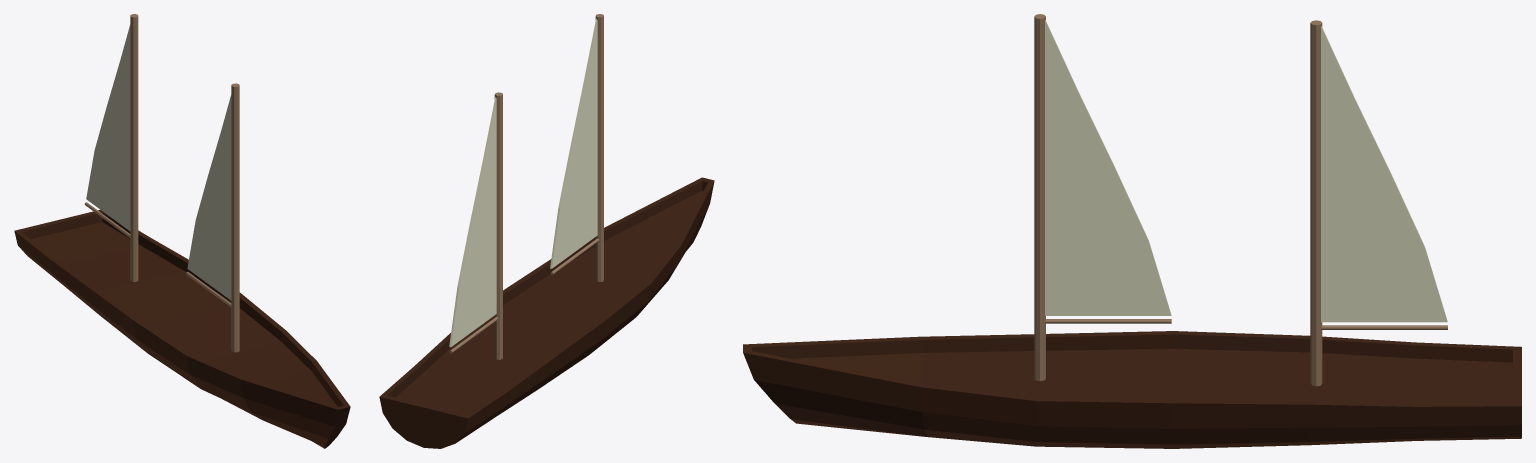
File: Mittleres_Segelboot.fbx
3 renders of one model, left to right at view 1: azimuth 30°, elevation 25°; view 2: azimuth 150°, elevation 25°; view 3: azimuth 270°, elevation 25°, orthographic. The views are drawn at different scales.
Parts seen in each view (by area): view 1: Boot, FixPoints.001, FixPoints, Mast, Mast.002; view 2: Boot, FixPoints, FixPoints.001, Mast, Mast.002; view 3: Boot, FixPoints.001, FixPoints, Mast.002, Mast.
Part boxes in pixels (x1,y1,x2,y2): Boot: (14,209,350,448); FixPoints.001: (86,14,133,230); FixPoints: (187,83,235,300); Mast: (231,83,239,352); Mast.002: (130,14,138,281); Boot: (379,177,714,448); FixPoints: (550,16,597,268); FixPoints.001: (449,94,496,347); Mast: (595,14,603,281); Mast.002: (494,92,502,359); Boot: (743,331,1521,448); FixPoints.001: (1320,23,1447,322); FixPoints: (1045,20,1171,315); Mast.002: (1310,20,1322,386); Mast: (1034,14,1045,380).
Bounding box in the file's own units: 939 × 2571 × 4275.
